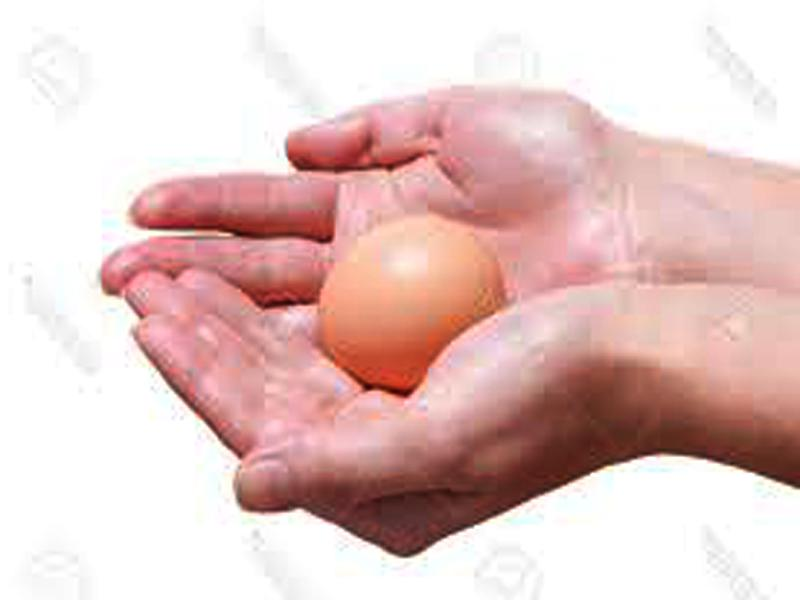Eggs: (319, 223, 494, 387)
